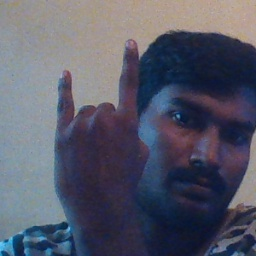V: (50, 36, 156, 211)
